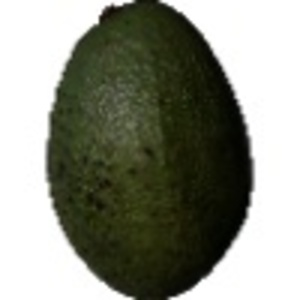abacate: (40, 2, 255, 297)
